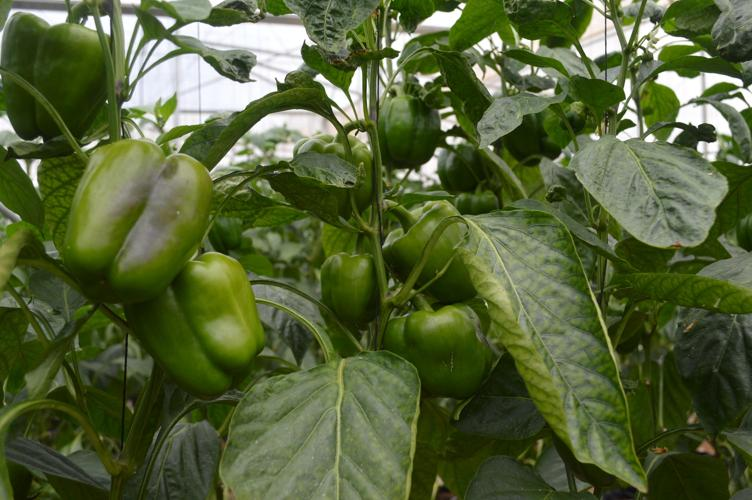BellPepper: (65, 139, 209, 303), (120, 254, 258, 400), (4, 11, 112, 137), (386, 305, 494, 394), (385, 201, 476, 297), (294, 136, 373, 220), (374, 94, 438, 172), (319, 254, 377, 330), (435, 142, 483, 189), (503, 111, 541, 164), (457, 190, 498, 212)
